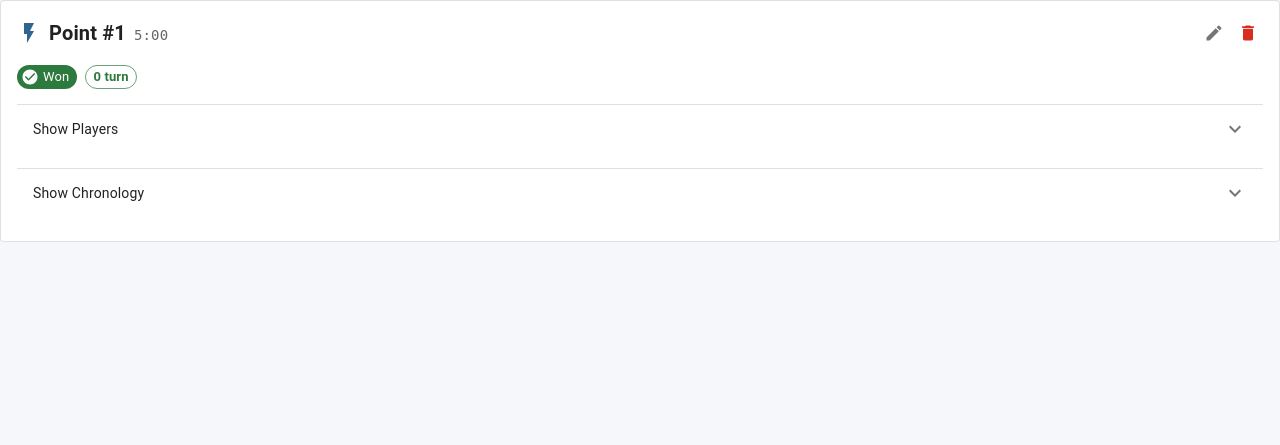
Test: PointHistoryList › renders field side in chronology when available
Click the button "Show Chronology".
click(51, 193)  # box [17,169,1263,217]
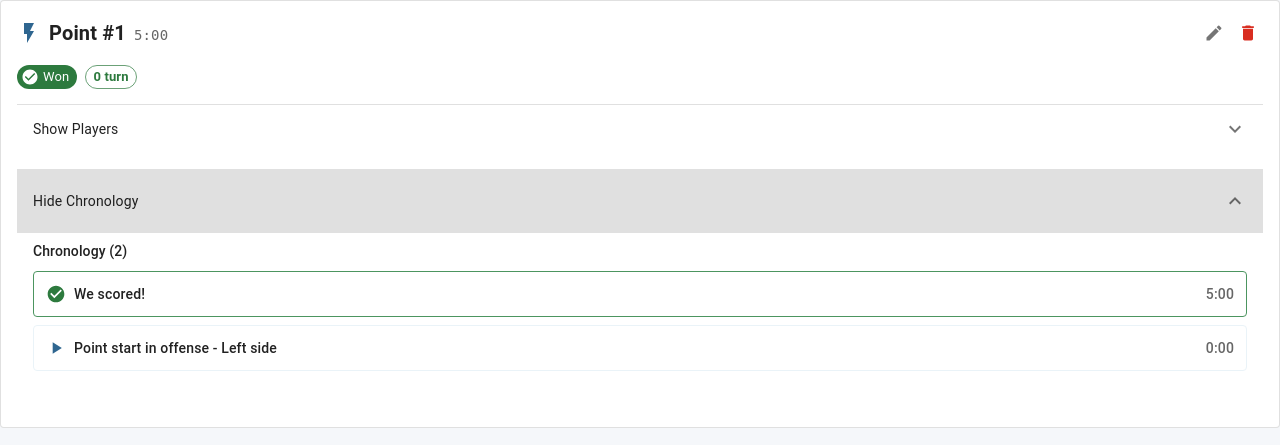
Result: the text "Point start in offense - Left side" is shown at [74,338,277,358]
